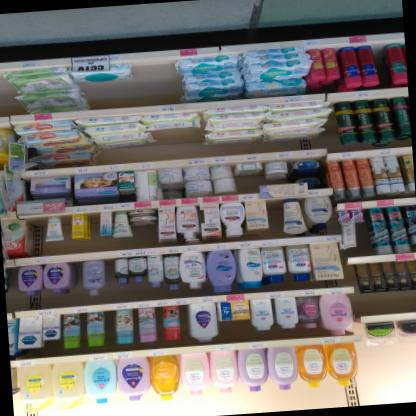empty_space: (133, 55, 181, 105)
